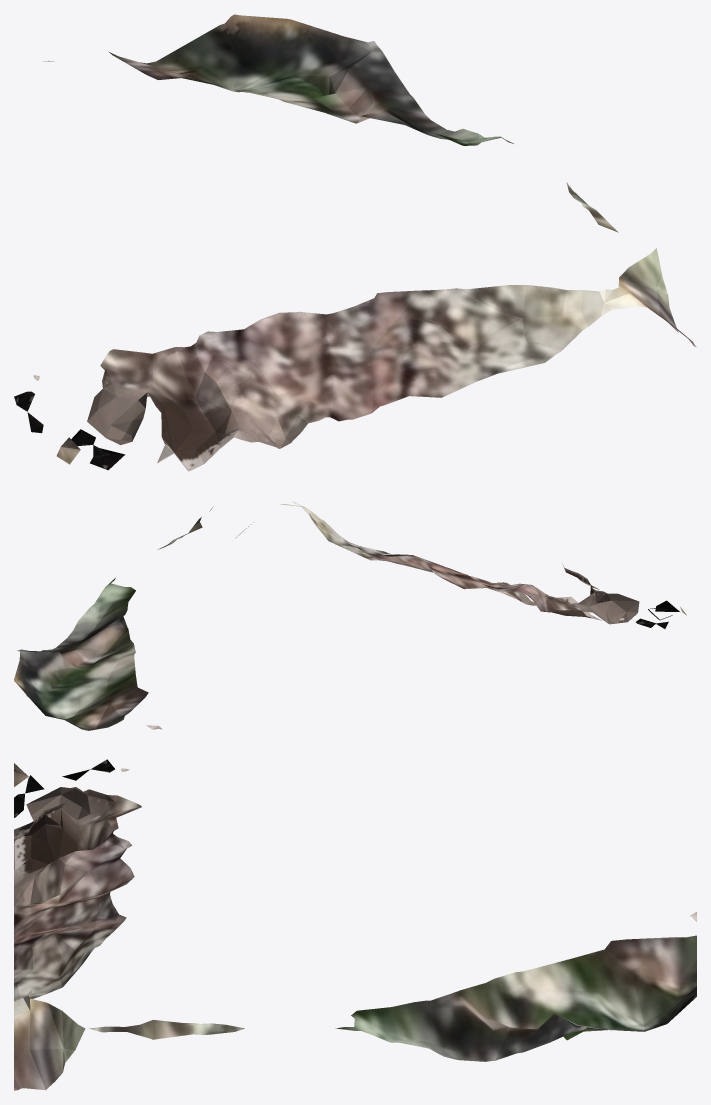
3 renders of one model, top to bottom at view 1: azimuth 30°, elevation 25°; view 2: azimuth 150°, elevation 25°; view 3: azimuth 270°, elevation 25°, orthographic. The views are drawn at different scales.
Size of the model in its own units: 1.61 by 0.1688 by 1.67.
1 material, 1 textured.
